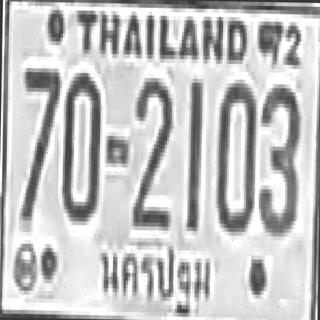N00: (61, 68, 100, 218), (215, 79, 254, 228)
N01: (185, 76, 200, 229)
N02: (132, 74, 171, 226)
N03: (256, 80, 298, 233)
N07: (19, 64, 59, 221), (22, 64, 59, 201)
P28: (95, 238, 214, 320)
